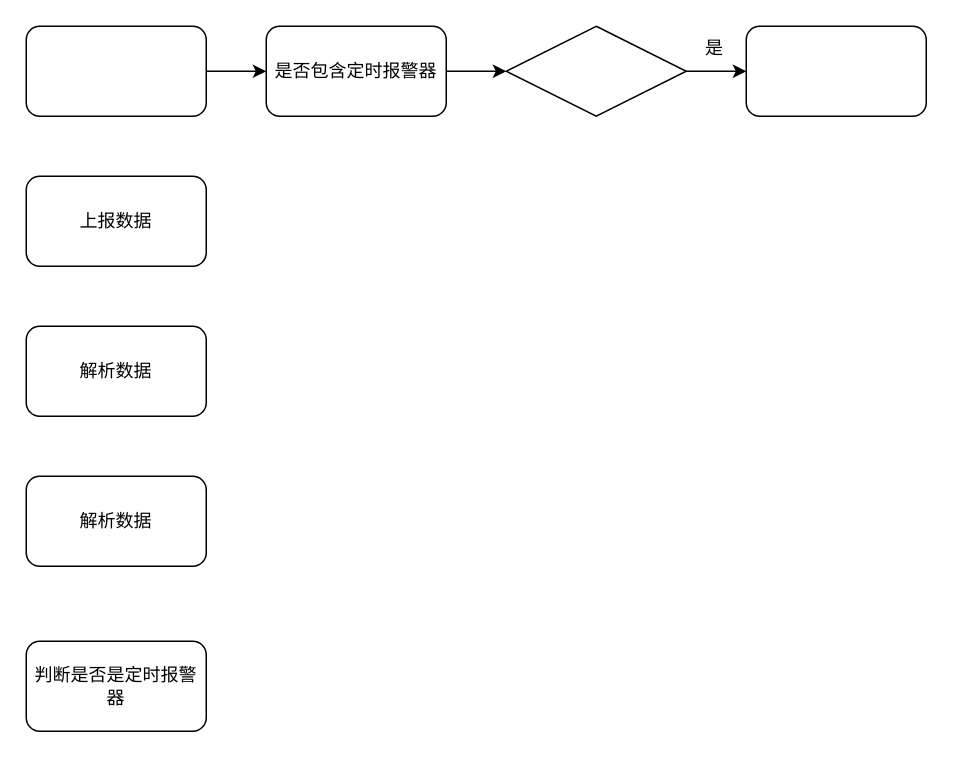
The diagram is 953 pixels wide and 758 high, and some of its shapes have lost their labels. Here are the shapes that lost their labels. From the top down, the box of each, then its label:
(25, 25, 206, 116): 启动初始化
(745, 25, 926, 116): 放入报警调度队列
